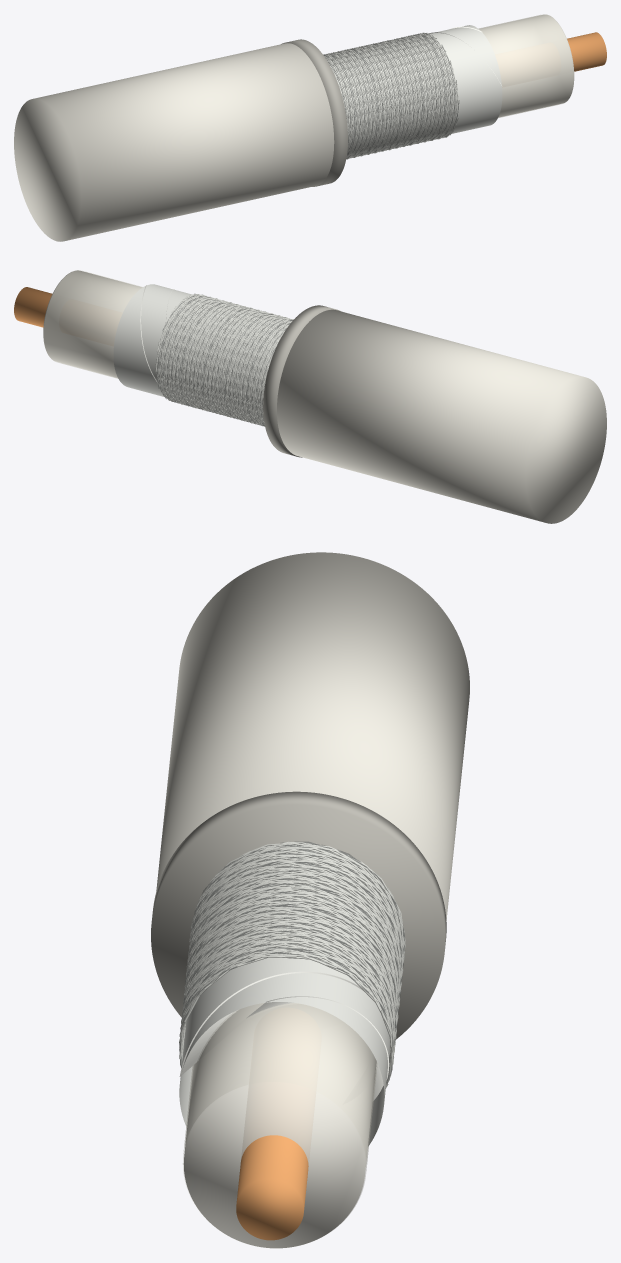
File: rf-lmr240llpl.glb
The picture shows the model from 3 angles, top to bottom: view 1: azimuth 30°, elevation 25°; view 2: azimuth 150°, elevation 25°; view 3: azimuth 270°, elevation 25°; orthographic projection. The views are drawn at different scales.
Parts seen in each view (by area): view 1: matte black pvc jacket body, duobond foil sleeve, gas injected foam dielectric, smooth dielectric skin, jacket cut lip, solid center conductor continuous, braid left hand carrier 02, braid left hand carrier 05, braid left hand carrier 06, braid left hand carrier 03, braid left hand carrier 12, braid left hand carrier 15 (+26 smaller); view 2: matte black pvc jacket body, duobond foil sleeve, gas injected foam dielectric, smooth dielectric skin, jacket cut lip, solid center conductor continuous, braid left hand carrier 14, braid left hand carrier 11, braid left hand carrier 12, braid left hand carrier 15, braid left hand carrier 02, braid left hand carrier 08 (+26 smaller); view 3: matte black pvc jacket body, gas injected foam dielectric, jacket cut lip, smooth dielectric skin, duobond foil sleeve, solid center conductor continuous, braid left hand carrier 03, braid left hand carrier 06, braid left hand carrier 15, braid left hand carrier 02, braid left hand carrier 09, braid left hand carrier 12 (+22 smaller).
Boxes of the visible parts, x1,y1,x2,y2 form: matte black pvc jacket body: [14, 43, 334, 241]; duobond foil sleeve: [328, 25, 502, 151]; gas injected foam dielectric: [479, 14, 574, 117]; smooth dielectric skin: [478, 14, 573, 117]; jacket cut lip: [281, 39, 347, 186]; solid center conductor continuous: [567, 32, 606, 71]; braid left hand carrier 02: [330, 33, 447, 156]; braid left hand carrier 05: [333, 32, 452, 159]; braid left hand carrier 06: [335, 34, 453, 159]; braid left hand carrier 03: [328, 33, 449, 157]; braid left hand carrier 12: [324, 35, 453, 157]; braid left hand carrier 15: [323, 34, 443, 156]; matte black pvc jacket body: [277, 309, 606, 523]; duobond foil sleeve: [113, 284, 282, 416]; gas injected foam dielectric: [43, 270, 141, 377]; smooth dielectric skin: [44, 270, 142, 378]; jacket cut lip: [263, 305, 340, 457]; solid center conductor continuous: [14, 287, 52, 327]; braid left hand carrier 14: [161, 296, 291, 425]; braid left hand carrier 11: [165, 298, 287, 425]; braid left hand carrier 12: [163, 298, 288, 426]; braid left hand carrier 15: [160, 296, 291, 424]; braid left hand carrier 02: [155, 295, 293, 424]; braid left hand carrier 08: [169, 299, 287, 423]; matte black pvc jacket body: [156, 552, 469, 920]; gas injected foam dielectric: [183, 1003, 376, 1248]; jacket cut lip: [151, 791, 446, 1039]; smooth dielectric skin: [183, 1003, 377, 1236]; duobond foil sleeve: [179, 859, 390, 1146]; solid center conductor continuous: [236, 1135, 308, 1240]; braid left hand carrier 03: [182, 843, 404, 1044]; braid left hand carrier 06: [179, 848, 403, 1044]; braid left hand carrier 15: [181, 859, 405, 1083]; braid left hand carrier 02: [183, 842, 404, 1064]; braid left hand carrier 09: [180, 851, 404, 1066]; braid left hand carrier 12: [183, 855, 403, 1061].
Size of the model in its own units: 6.53 by 1.54 by 1.67.
